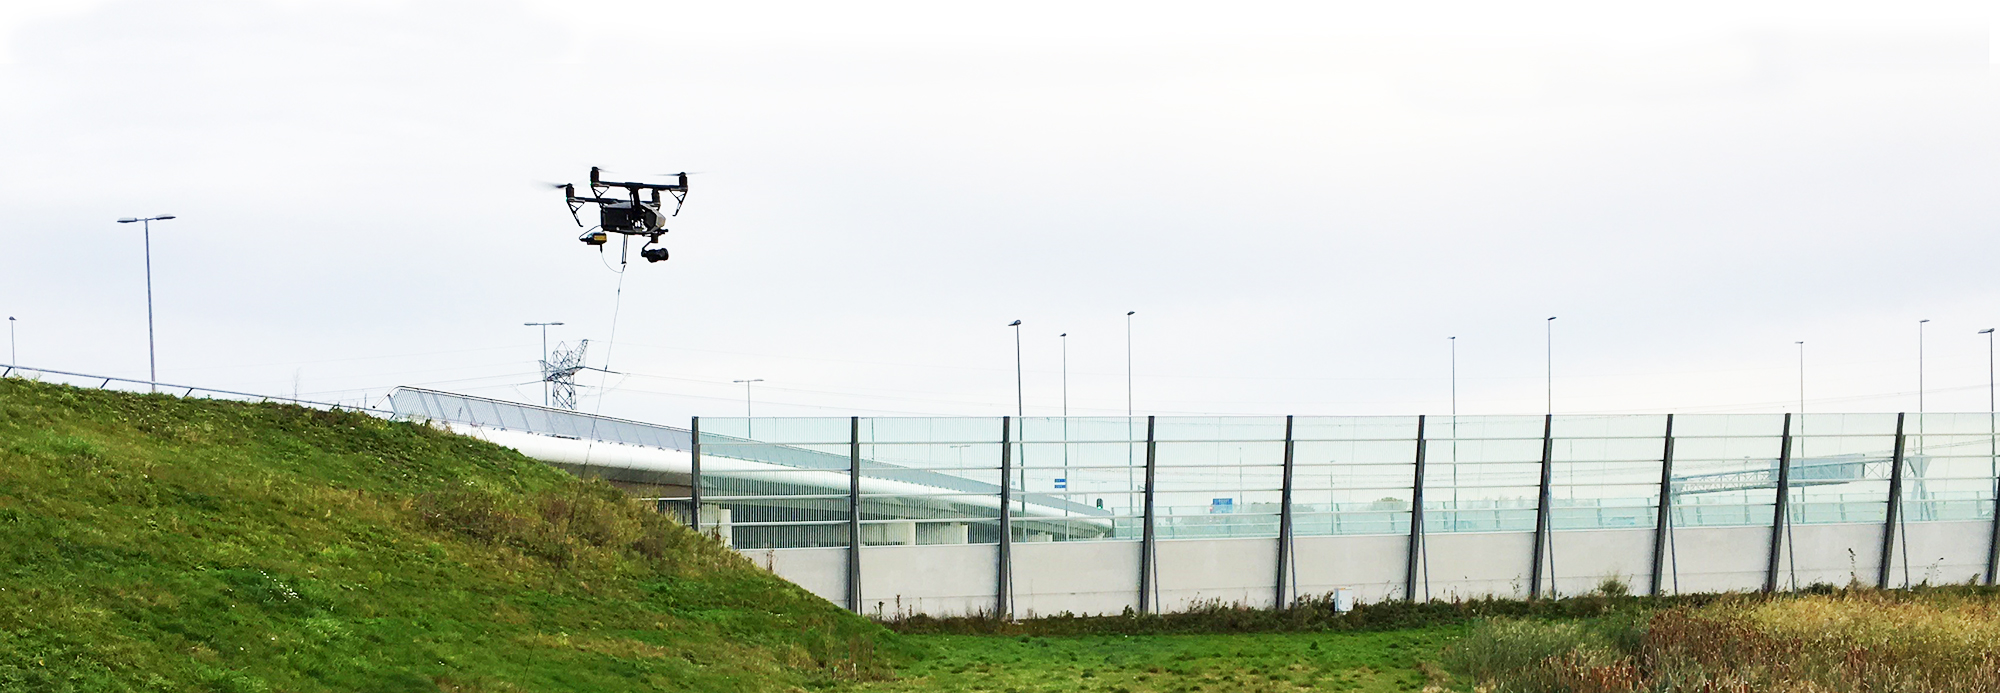drone: (534, 165, 713, 277)
